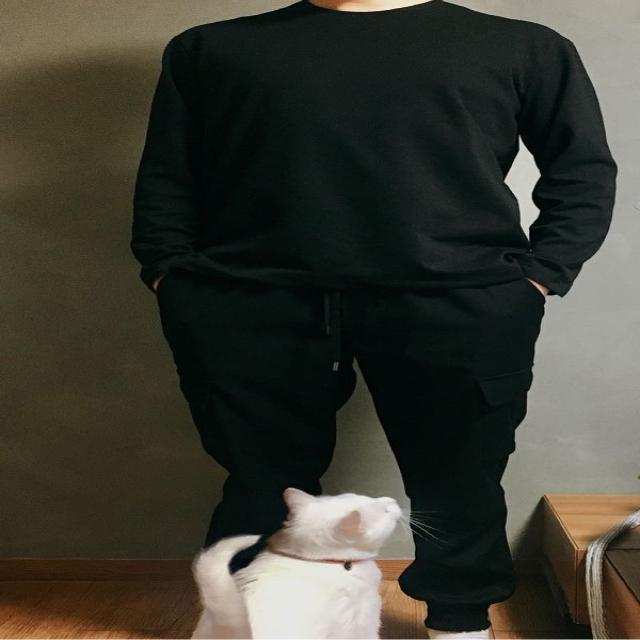mtm: (135, 1, 618, 291)
trainingpants: (161, 262, 553, 620)
